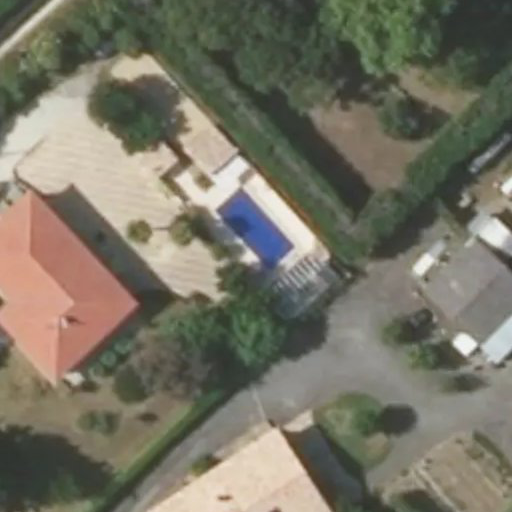pool: (211, 224, 300, 259)
